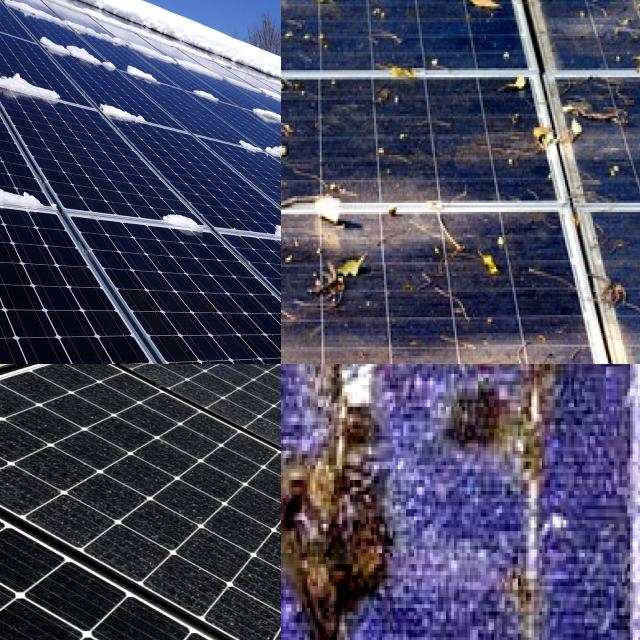dust: (0, 405, 114, 545), (154, 529, 281, 640), (178, 373, 281, 497), (95, 364, 210, 410), (0, 364, 87, 410)
panel: (120, 4, 229, 72), (34, 24, 121, 88), (0, 161, 62, 237), (0, 60, 80, 109), (150, 200, 227, 250), (0, 151, 39, 219), (243, 48, 281, 113), (94, 85, 148, 127), (126, 47, 173, 95), (225, 135, 281, 173), (18, 0, 73, 34), (252, 104, 281, 155), (0, 0, 41, 31), (190, 78, 227, 112), (0, 0, 29, 31), (267, 196, 281, 259), (0, 0, 30, 23)
shadow: (281, 364, 443, 640), (455, 364, 590, 622)
